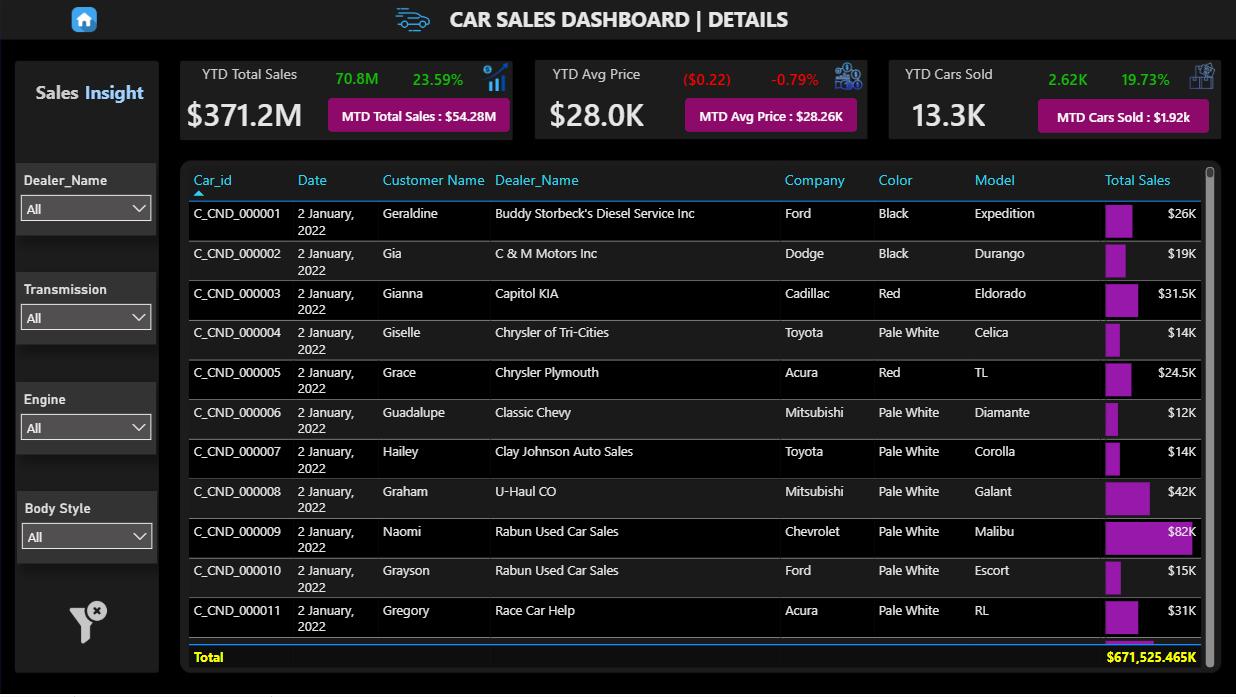

What the dashboard file says about the page in this screenshot:
{"tool":"powerbi","page":{"name":"Details","canvas":[1280,720],"ordinal":1},"visuals":[{"type":"image","box":[64.7,7.3,45.6,26],"z":0},{"type":"textbox","box":[435.4,0,409.2,43.4],"z":1000},{"type":"image","box":[389.4,0,76.4,39.7],"z":2000},{"type":"image","box":[69.1,618.6,44.1,50],"z":7000},{"type":"textbox","box":[82.3,77.9,82.3,36.7],"z":9000},{"type":"textbox","box":[32.3,77.9,70.5,36.7],"z":10000},{"type":"cardVisual","title":"YTD Total Sales","fields":{"Data":["Date (Calender Table).YTD Total Sales"]},"box":[163.1,66.1,189.6,83.8],"z":11000},{"type":"cardVisual","title":"Sales Difference","fields":{"Data":["Date (Calender Table).Sales diff"]},"box":[320.3,58.8,98.4,41.1],"z":12000},{"type":"cardVisual","title":"Sales Difference","fields":{"Data":["Date (Calender Table).YOY Sales Growth"]},"box":[402.6,58.8,102.9,42.6],"z":13000},{"type":"cardVisual","fields":{"Data":["Date (Calender Table).MTD KPI"]},"box":[338.9,101.9,188.8,35.8],"z":14000},{"type":"cardVisual","title":"YTD Avg Price","fields":{"Data":["Date (Calender Table).YTD Avg Price"]},"box":[536.8,66.2,160.3,83.8],"z":15000},{"type":"cardVisual","title":"Sales Difference","fields":{"Data":["Date (Calender Table).Avg Price Diff"]},"box":[673,58.8,116.1,42.6],"z":16000},{"type":"cardVisual","title":"Sales Difference","fields":{"Data":["Date (Calender Table).YOY Avg Price Growth"]},"box":[765.6,58.8,114.6,42.6],"z":17000},{"type":"cardVisual","fields":{"Data":["Date (Calender Table).MTD Avg Price KPI"]},"box":[708.8,101.8,178.9,35.8],"z":18000},{"type":"cardVisual","title":"YTD Cars Sold","fields":{"Data":["Date (Calender Table).YTD Cars Sold"]},"box":[902.9,66.2,157.4,83.8],"z":19000},{"type":"cardVisual","title":"Sales Difference","fields":{"Data":["Date (Calender Table).Cars Sold Diff"]},"box":[1047.7,58.8,114.6,42.6],"z":20000},{"type":"cardVisual","title":"Sales Difference","fields":{"Data":["Date (Calender Table).YOY Cars Sold Growth"]},"box":[1128.5,58.8,114.6,42.6],"z":21000},{"type":"cardVisual","fields":{"Data":["Date (Calender Table).MTD Cars Sold KPI"]},"box":[1073.5,102.3,177.9,35.3],"z":22000},{"type":"image","box":[1224,64.7,39.7,27.9],"z":23000},{"type":"image","box":[859.6,64.7,36.7,29.4],"z":24000},{"type":"image","box":[496.7,61.7,30.9,35.3],"z":25000},{"type":"tableEx","fields":{"Values":["car_data.Car_id","car_data.Date","car_data.Customer Name","car_data.Dealer_Name","car_data.Company","car_data.Color","car_data.Model","Date (Calender Table).Total Sales"]},"box":[189.5,167.1,1072.4,527.6],"z":26000},{"type":"slicer","fields":{"Values":["car_data.Body Style"]},"box":[17.9,507.7,144.8,75.1],"z":26001},{"type":"slicer","fields":{"Values":["car_data.Dealer_Name"]},"box":[17,168.6,145,75],"z":26002},{"type":"slicer","fields":{"Values":["car_data.Transmission"]},"box":[17,281.6,144.8,75.1],"z":26003},{"type":"slicer","fields":{"Values":["car_data.Engine"]},"box":[17,394.7,144.8,75.1],"z":26004}]}

Visuals, with their boxes in screenshot pixels (x1, y1, x2, y2), scaled from the page's 1280x720 canvas onto the 1236x697 screenshot:
image: select_region(62, 7, 107, 32)
textbox: select_region(420, 0, 816, 42)
image: select_region(376, 0, 450, 38)
image: select_region(67, 599, 109, 647)
textbox: select_region(79, 75, 159, 111)
textbox: select_region(31, 75, 99, 111)
"YTD Total Sales" cardVisual: select_region(157, 64, 341, 145)
"Sales Difference" cardVisual: select_region(309, 57, 404, 97)
"Sales Difference" cardVisual: select_region(389, 57, 488, 98)
cardVisual - Date (Calender Table).MTD KPI: select_region(327, 99, 510, 133)
"YTD Avg Price" cardVisual: select_region(518, 64, 673, 145)
"Sales Difference" cardVisual: select_region(650, 57, 762, 98)
"Sales Difference" cardVisual: select_region(739, 57, 850, 98)
cardVisual - Date (Calender Table).MTD Avg Price KPI: select_region(684, 99, 857, 133)
"YTD Cars Sold" cardVisual: select_region(872, 64, 1024, 145)
"Sales Difference" cardVisual: select_region(1012, 57, 1122, 98)
"Sales Difference" cardVisual: select_region(1090, 57, 1200, 98)
cardVisual - Date (Calender Table).MTD Cars Sold KPI: select_region(1037, 99, 1208, 133)
image: select_region(1182, 63, 1220, 90)
image: select_region(830, 63, 865, 91)
image: select_region(480, 60, 509, 94)
tableEx - car_data.Car_id x car_data.Date: select_region(183, 162, 1219, 673)
slicer - car_data.Body Style: select_region(17, 491, 157, 564)
slicer - car_data.Dealer_Name: select_region(16, 163, 156, 236)
slicer - car_data.Transmission: select_region(16, 273, 156, 345)
slicer - car_data.Engine: select_region(16, 382, 156, 455)
